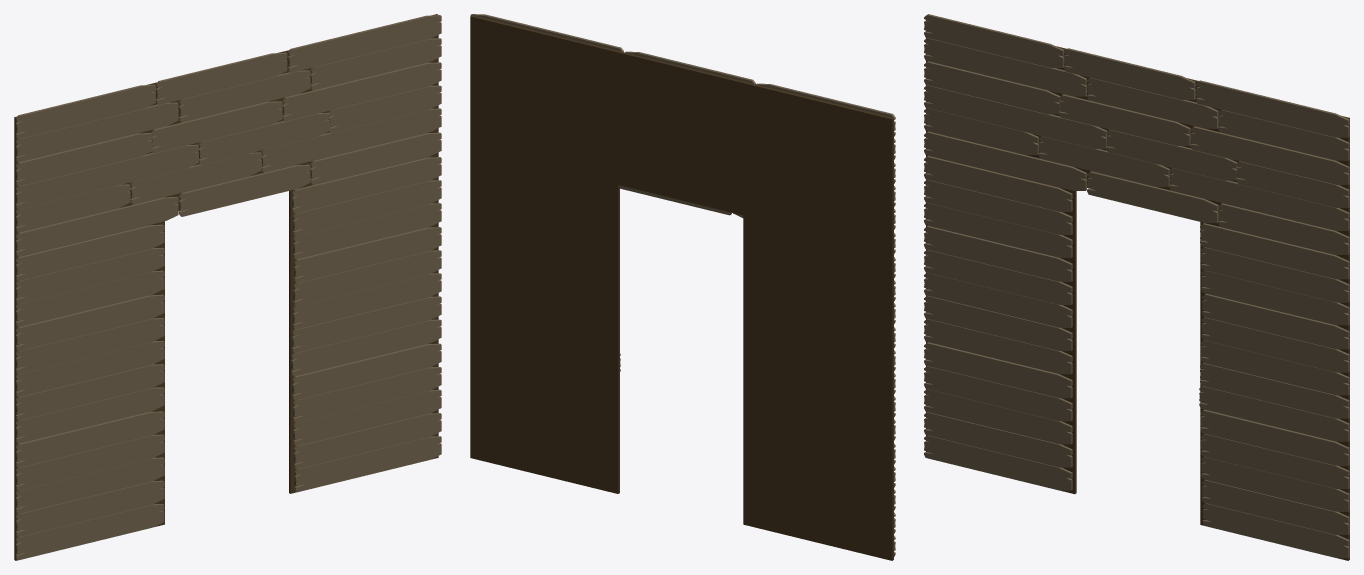
File: BackDoorWall.fbx
The picture shows the model from 3 angles, left to right: view 1: azimuth 30°, elevation 25°; view 2: azimuth 150°, elevation 25°; view 3: azimuth 330°, elevation 25°; orthographic projection.
Visible parts, largest first — view 1: BackDoorWall; view 2: BackDoorWall; view 3: BackDoorWall.
Boxes of the visible parts, x1,y1,x2,y2 form: BackDoorWall: (14, 14, 441, 560); BackDoorWall: (470, 14, 895, 560); BackDoorWall: (924, 14, 1349, 560).
Size of the model in its own units: 19.54 by 19.58 by 0.2509.
